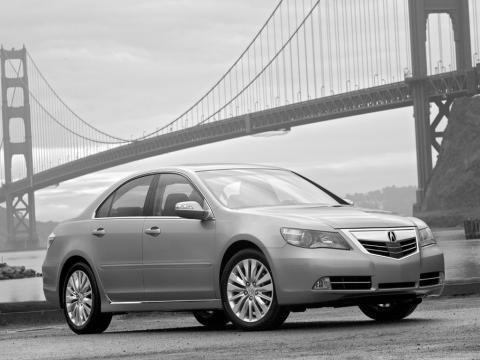car: (41, 161, 449, 337)
